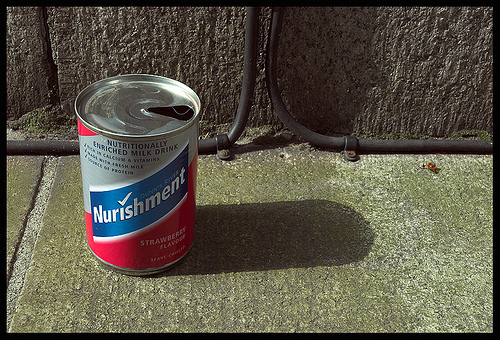litter: (72, 73, 200, 278)
